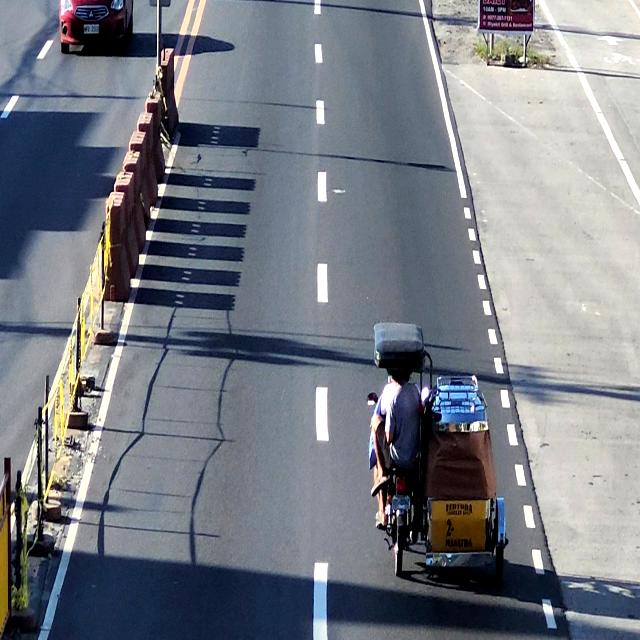License-Plate: (391, 493, 411, 512)
Tricycle: (368, 318, 512, 597)
